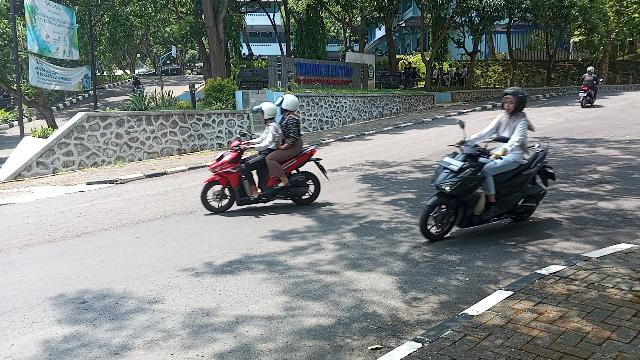helm: (502, 88, 528, 114), (253, 103, 278, 121), (280, 96, 300, 113), (588, 68, 596, 76)
motor: (421, 142, 557, 243), (203, 141, 331, 213), (581, 87, 598, 108)
